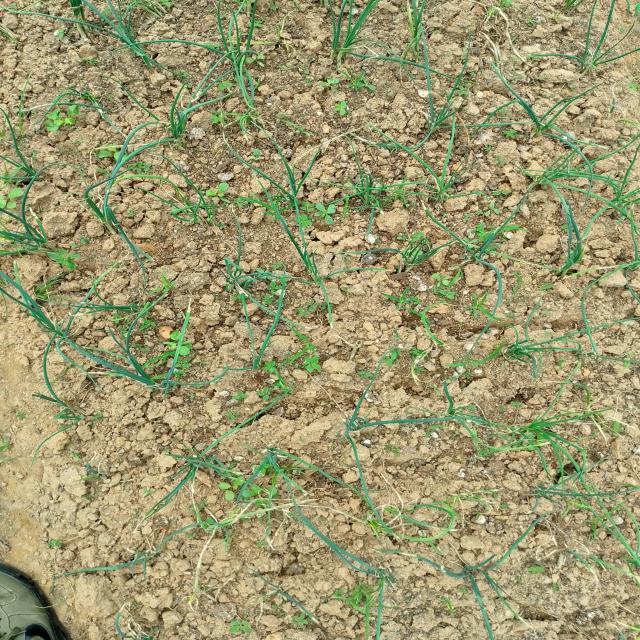Spring Onion: (498, 84, 578, 147), (247, 160, 332, 218), (306, 11, 384, 73), (531, 37, 640, 78), (508, 472, 600, 518), (132, 100, 200, 162), (410, 391, 491, 442), (448, 221, 520, 278), (211, 36, 283, 91), (81, 195, 154, 247), (341, 168, 411, 222), (42, 78, 113, 130), (437, 548, 513, 596), (169, 438, 239, 489), (102, 359, 198, 396), (410, 85, 470, 144), (420, 162, 486, 215), (246, 438, 314, 488), (0, 212, 68, 262), (34, 388, 108, 433), (533, 238, 600, 286), (209, 257, 269, 308), (591, 169, 640, 231), (323, 402, 386, 450), (0, 144, 59, 195), (104, 20, 164, 70), (23, 307, 91, 351), (96, 286, 161, 332), (518, 160, 584, 202), (184, 507, 248, 550), (255, 574, 318, 617), (291, 246, 345, 296), (378, 234, 436, 280), (509, 408, 566, 453), (341, 550, 405, 588), (393, 18, 438, 72), (377, 286, 434, 326), (491, 335, 548, 372), (48, 5, 104, 42), (562, 403, 618, 437), (219, 108, 289, 135), (119, 540, 170, 576), (166, 195, 213, 231), (608, 241, 640, 286)
